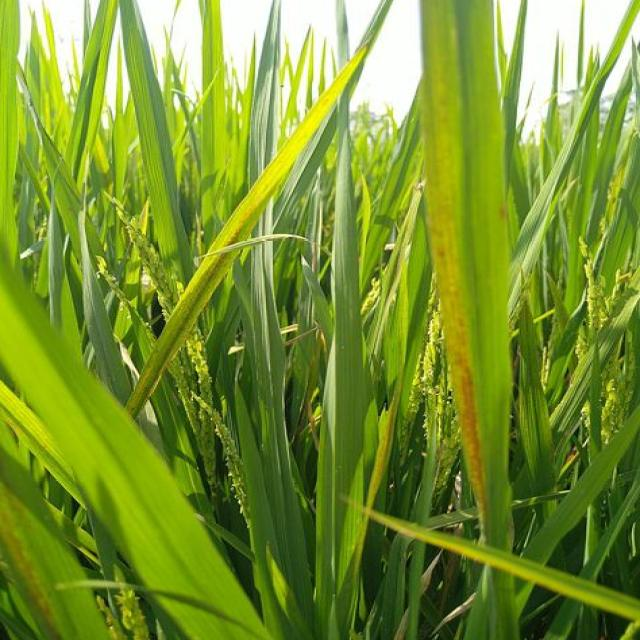Leaf Streak: (126, 160, 296, 419), (424, 2, 483, 498), (0, 482, 63, 640)
